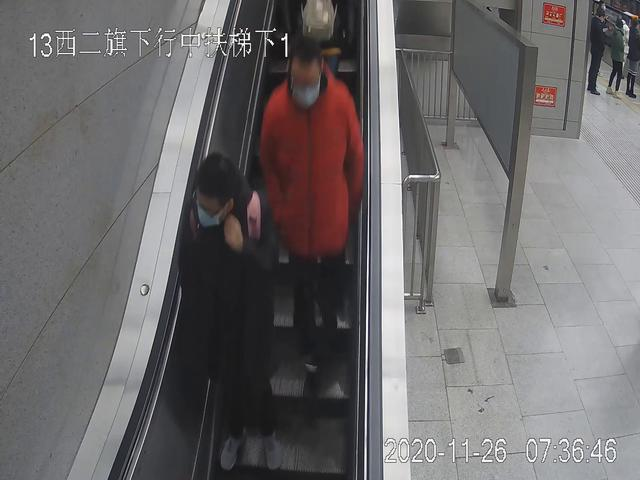person: (261, 42, 365, 399), (179, 155, 281, 471), (588, 8, 605, 94), (607, 18, 625, 97)
